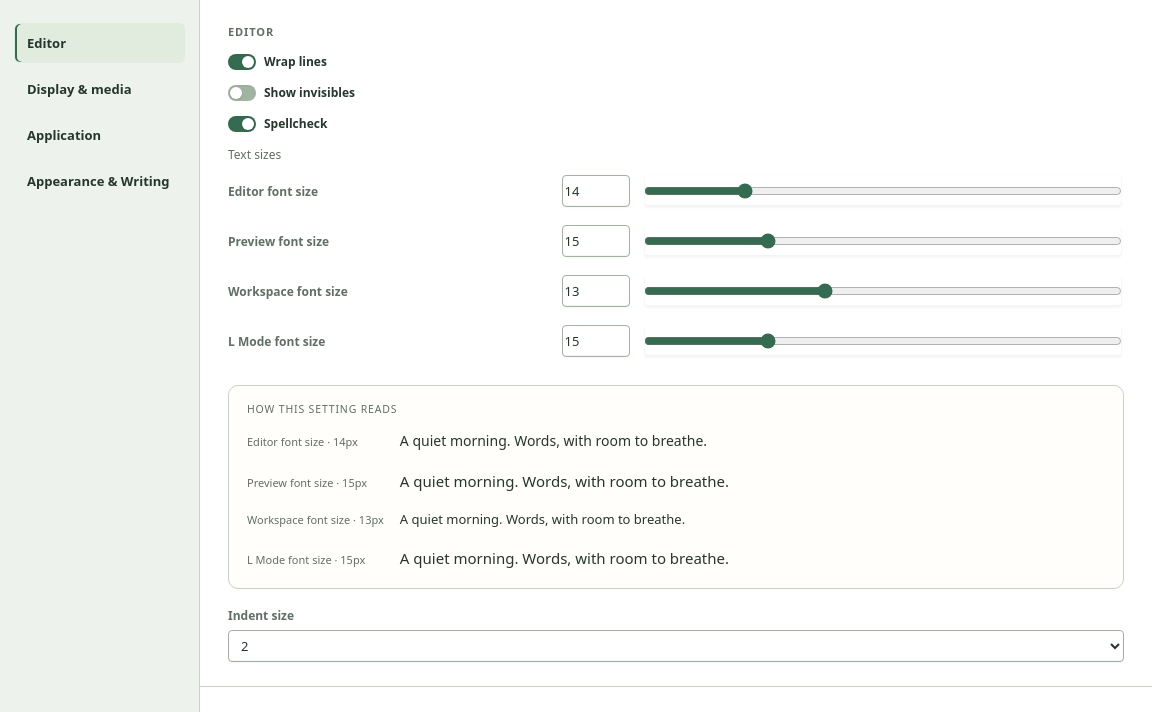
Test: drives editorFontSize from its paired slider inside the same range
Step 1. Set the slider named "Editor font size" to "22" → (1114, 191), box [644,175,1122,207]
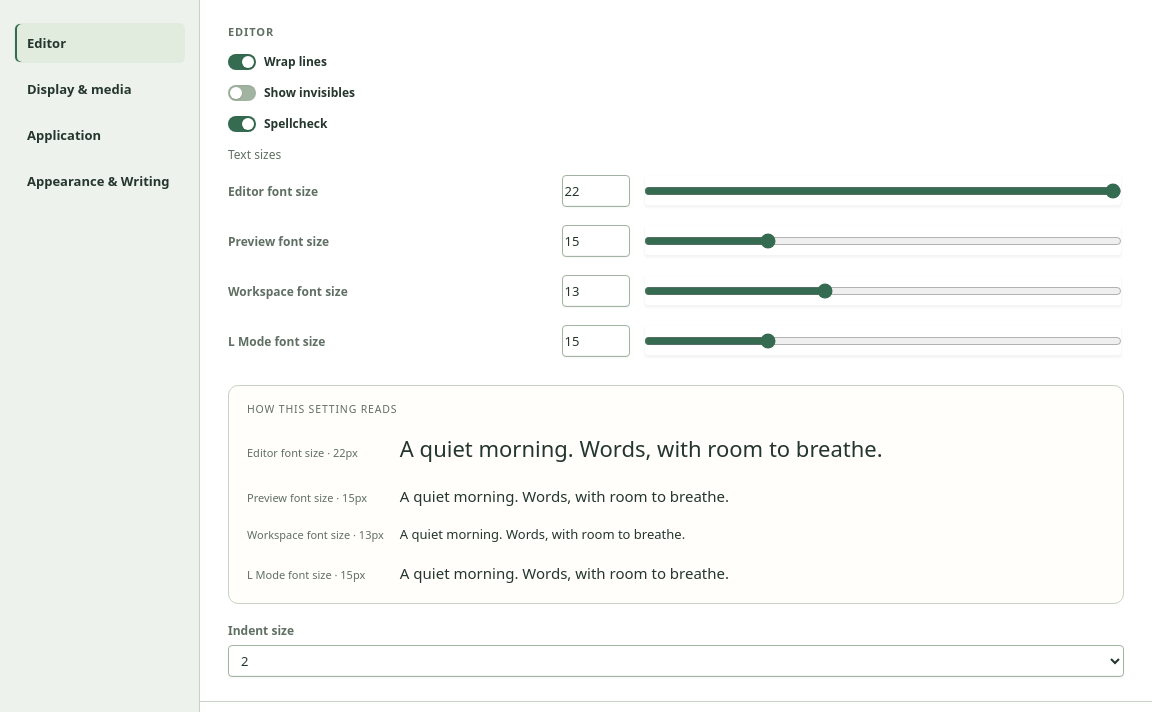
Check: the number field named "Editor font size" holds "22", box [562,175,630,207]
